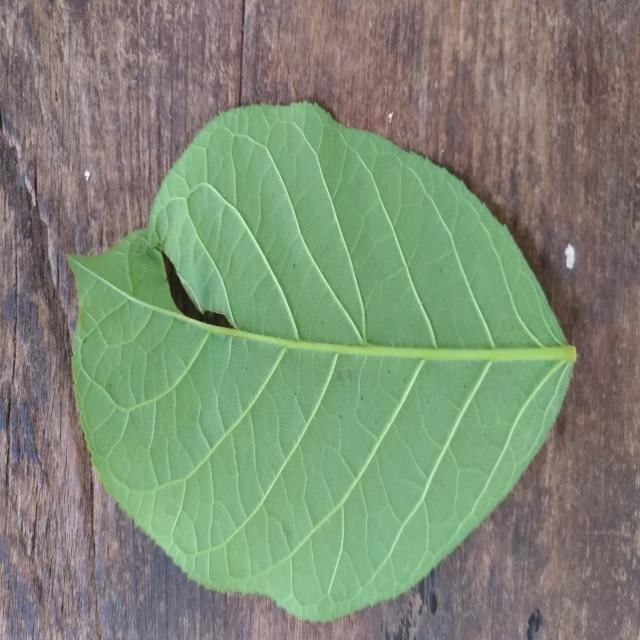padri: (70, 102, 576, 620)
